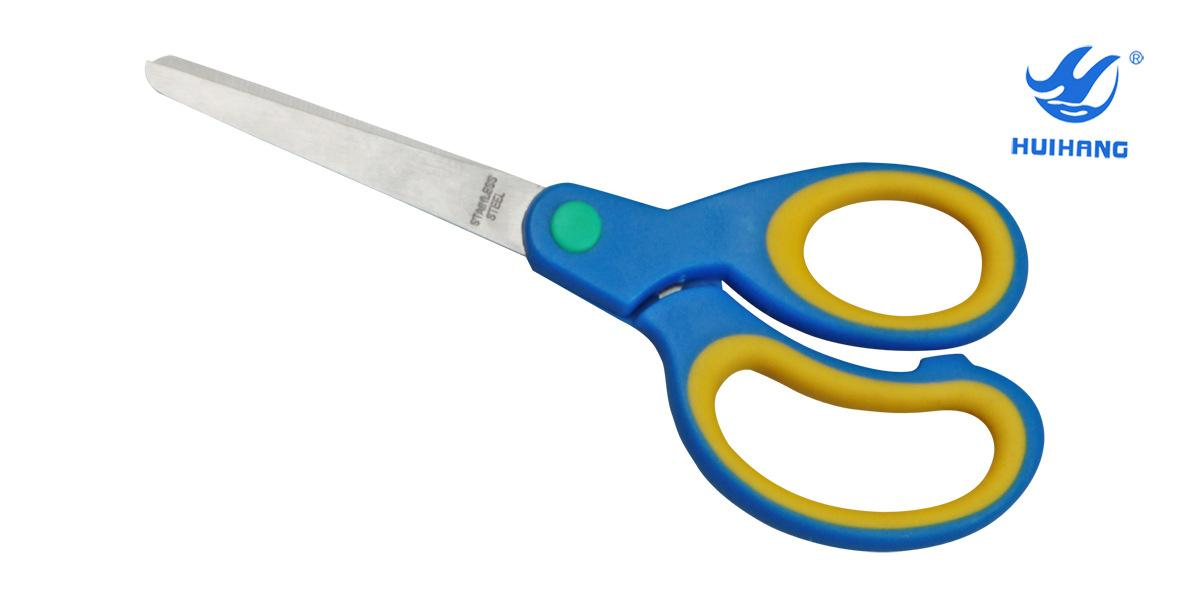scissor: (148, 6, 1027, 588)
